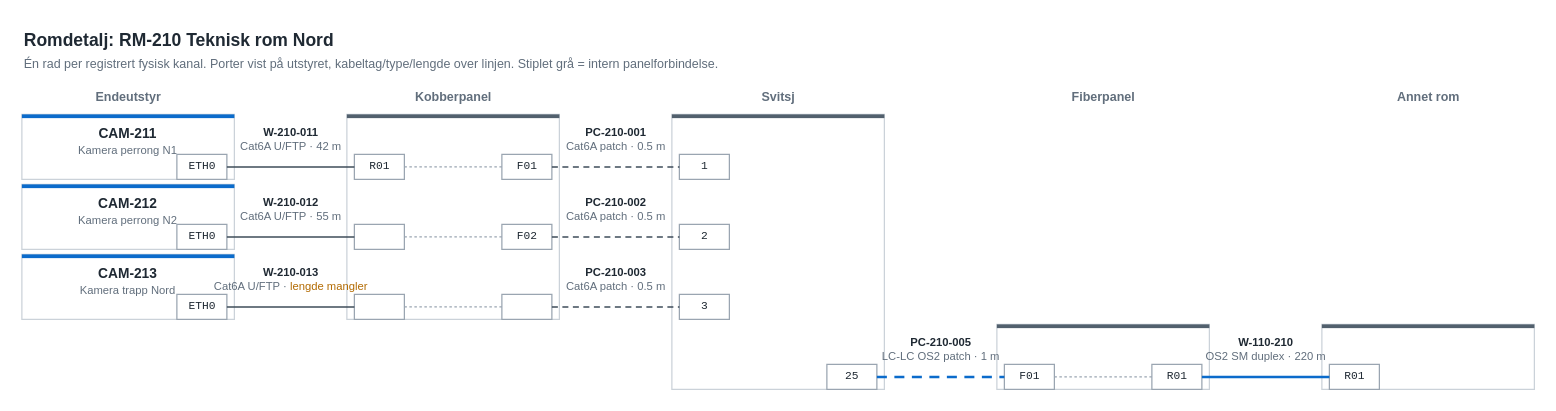
Image size: 1556x411. Some labels were removed from this diagram. Each missing label, with the box of its shape:
CPP-210-01 Kobberpatchpanel Nord: (346, 113, 559, 319)
F03: (501, 293, 552, 319)
FPP-110-01 Fiberpatchpanel MER: (1321, 323, 1534, 389)
FPP-210-01 Fiberpatchpanel Nord: (996, 323, 1209, 389)
R02: (353, 223, 404, 249)
R03: (353, 293, 404, 319)
SW-210-01 Aksessvitsj Nord: (671, 113, 884, 389)
